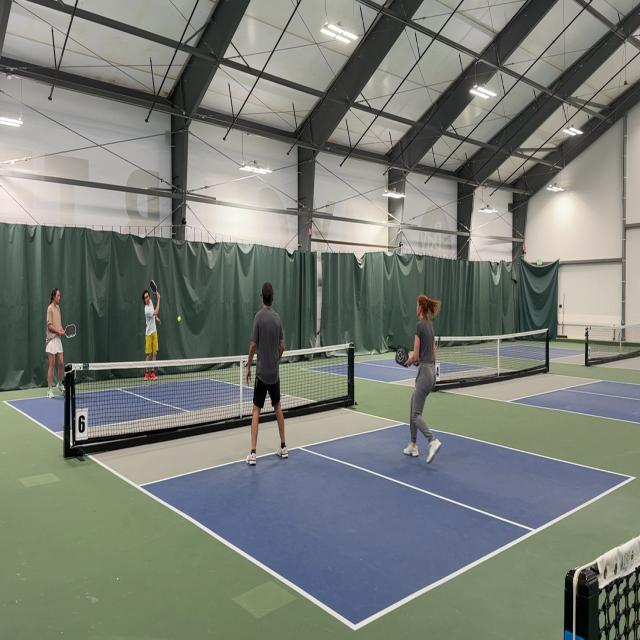ball: (177, 314, 181, 322)
